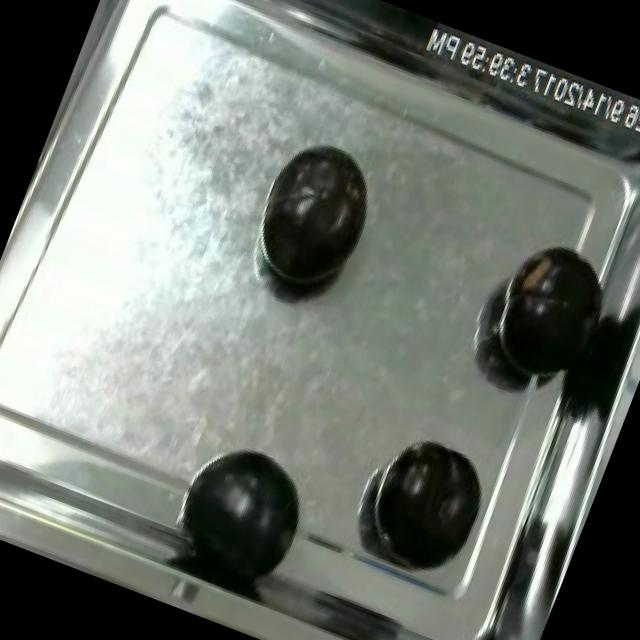Fruit: (464, 222, 628, 409), (235, 128, 394, 311), (164, 427, 324, 591), (354, 420, 500, 581)
